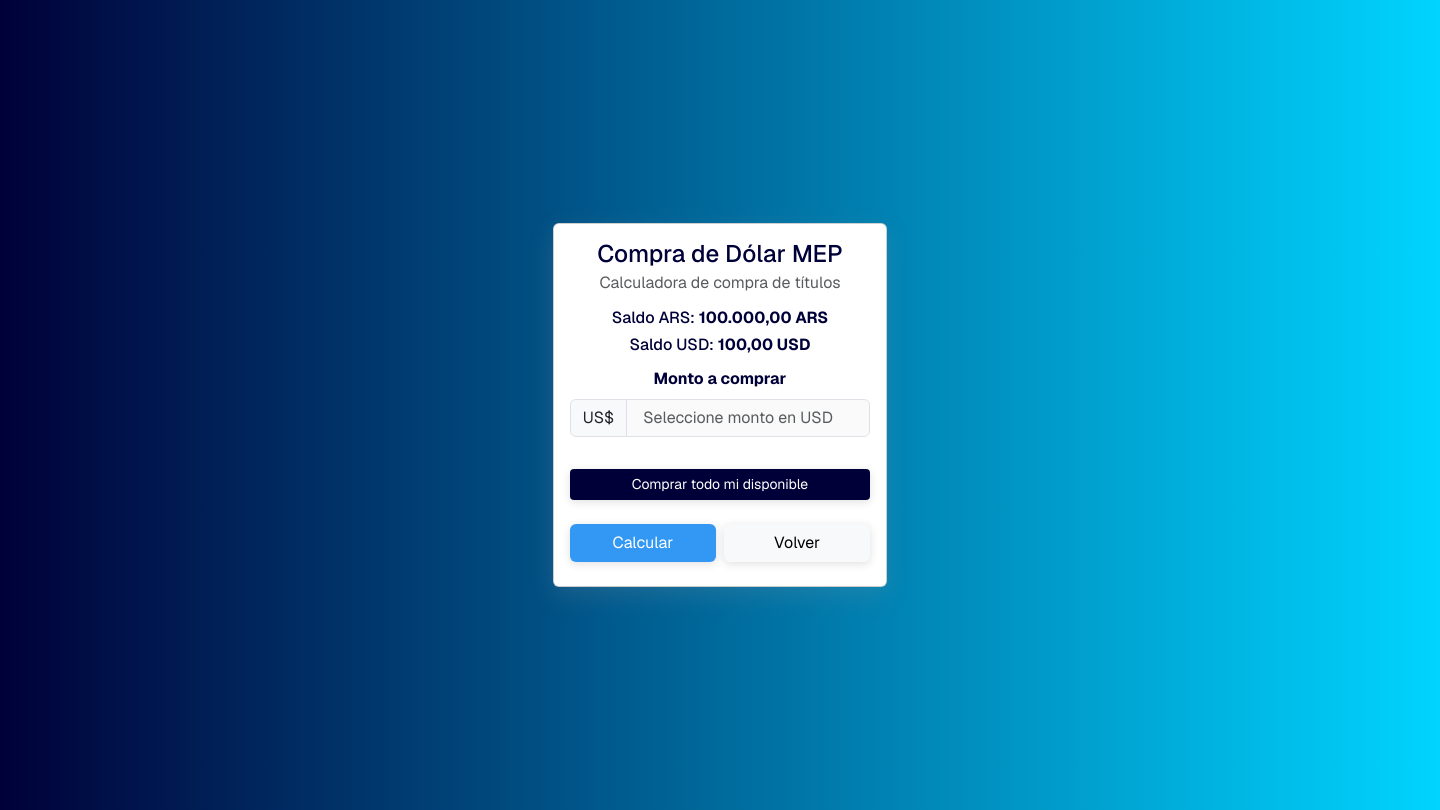
it: BuyCard Component › should show error message if amount is negative
This screenshot has width=1440, height=810.
Type "-20000" into the number field with placeholder "Seleccione monto en USD" at (748, 418), box [626,399,870,437]
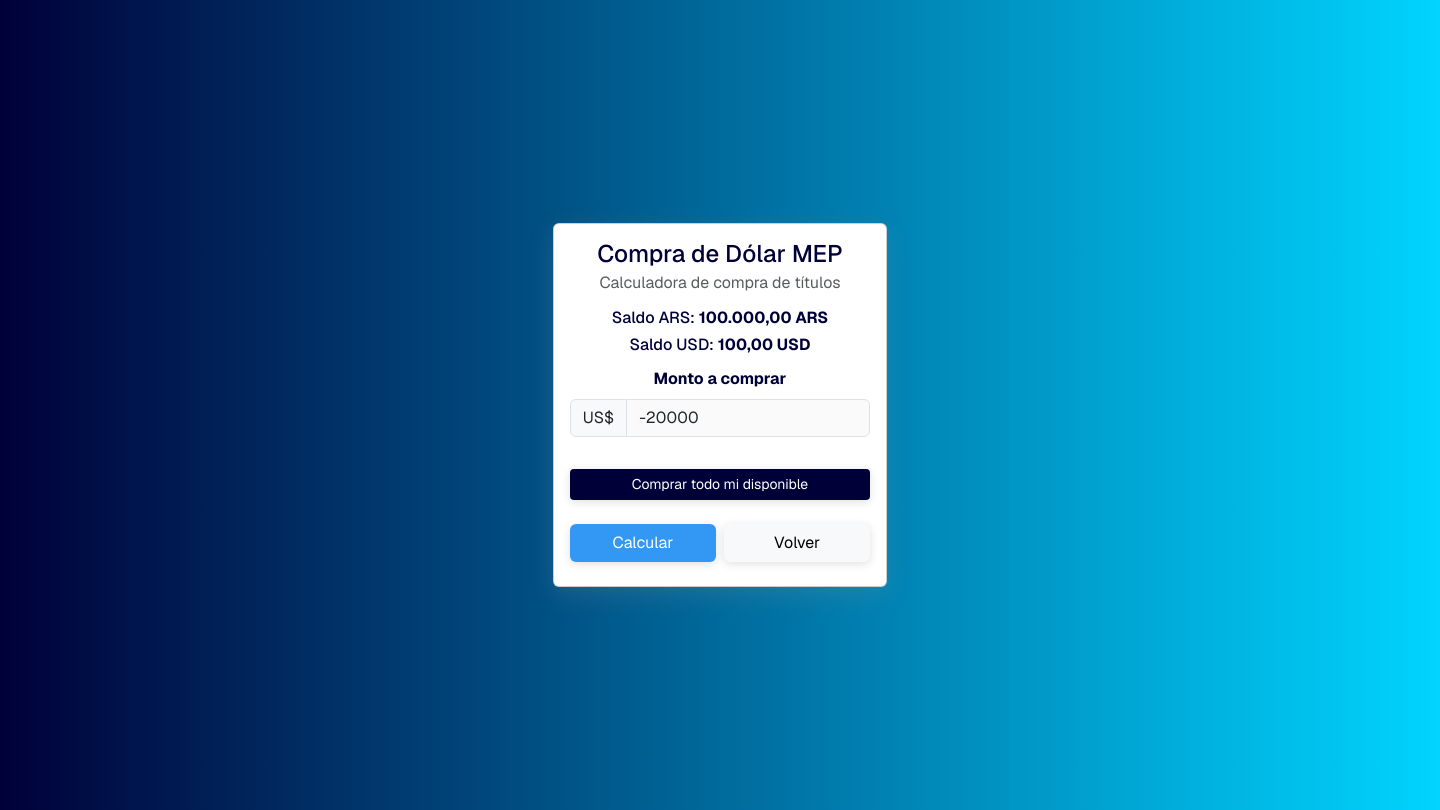
Click the button "Calcular" at (643, 543), box [570,524,716,562]
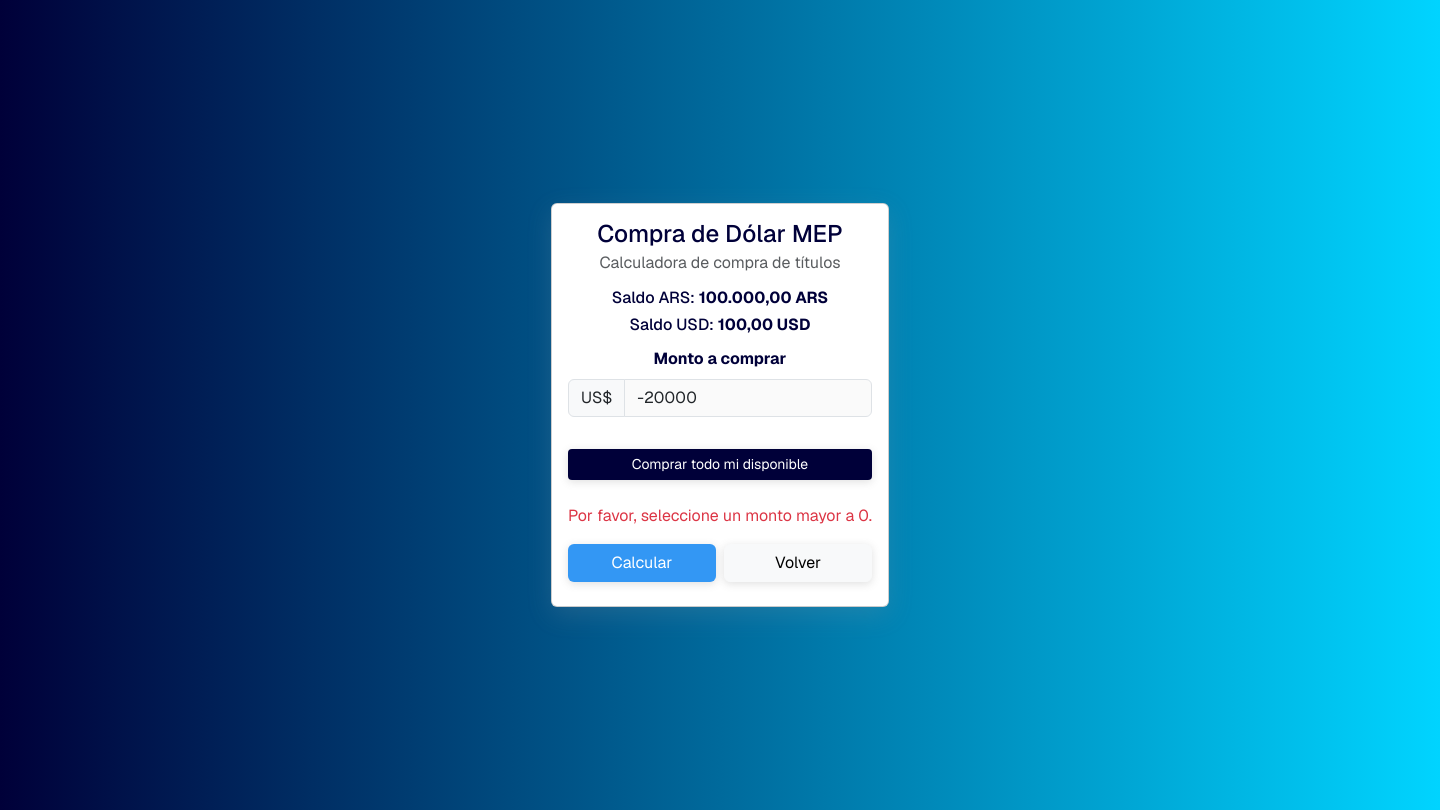
Check: the text "Por favor, seleccione un monto mayor a 0." is shown, box [568,504,872,528]
